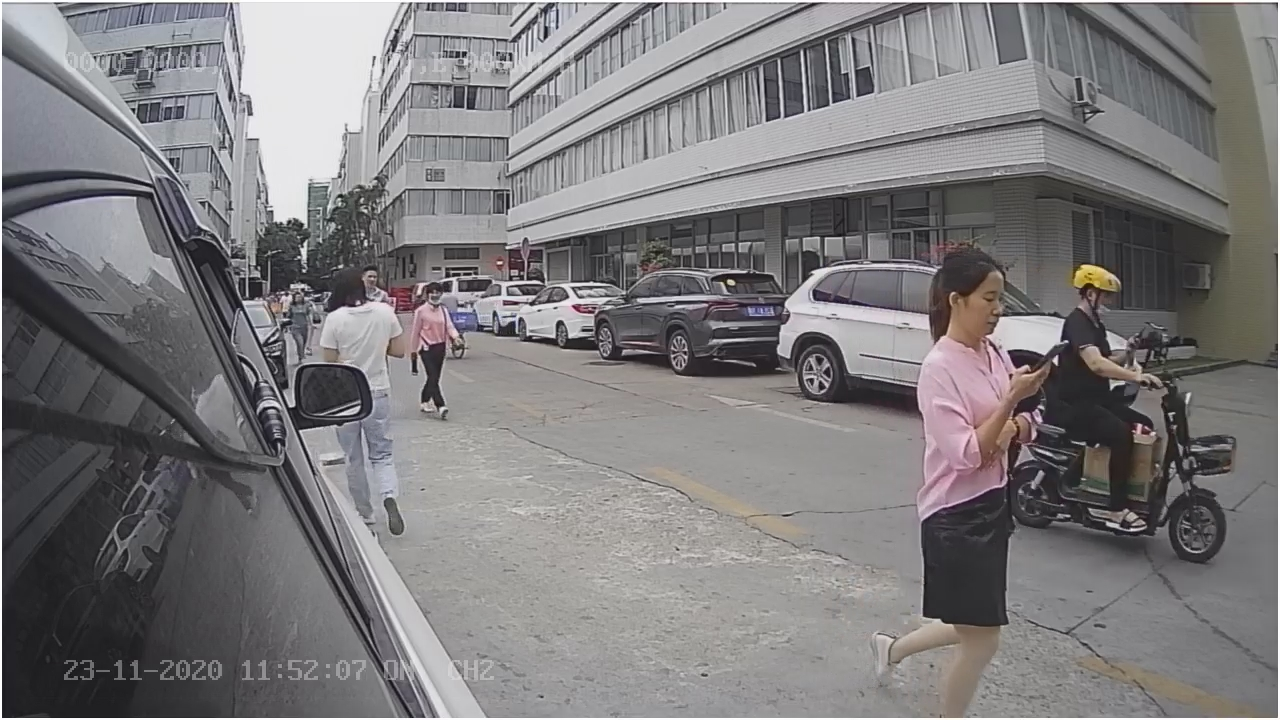person: (915, 252, 1049, 481), (312, 262, 408, 363)
